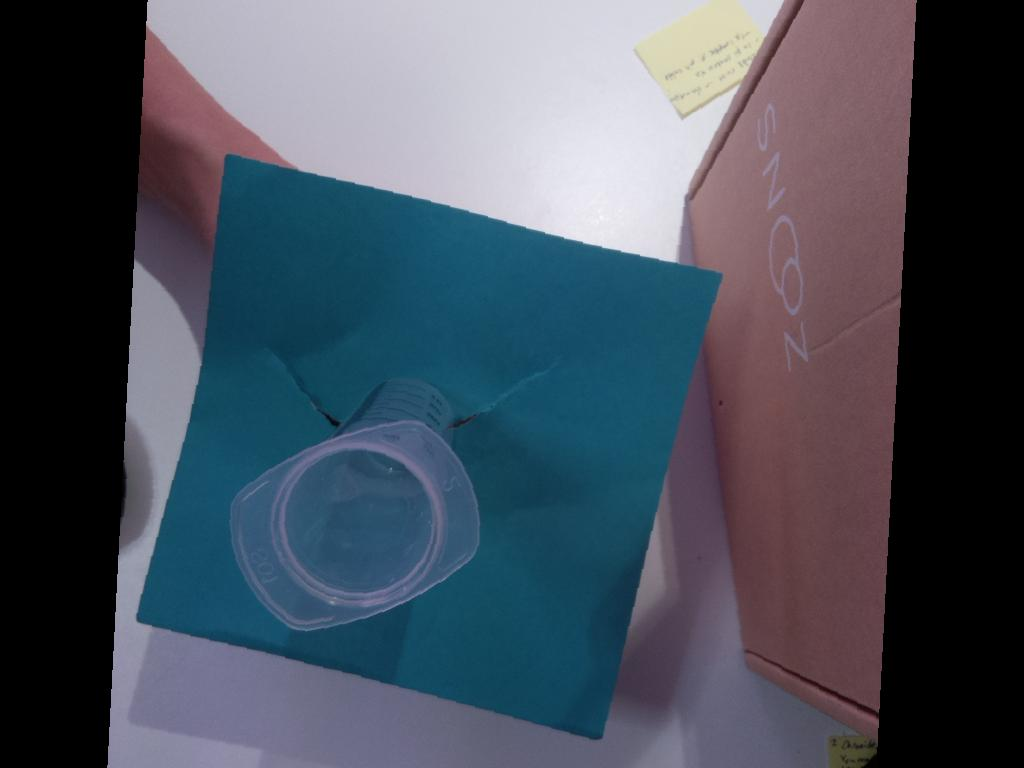clean: (229, 417, 483, 634)
